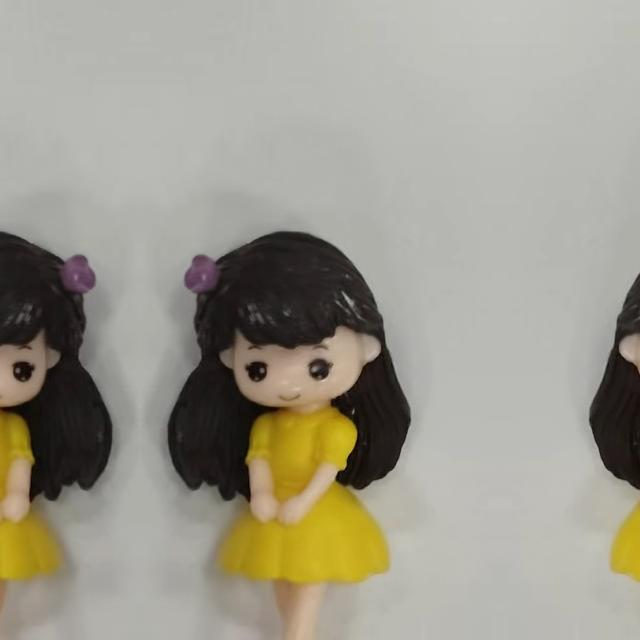woman dress: (226, 385, 381, 640), (0, 385, 53, 640), (618, 385, 640, 640)
woman head: (183, 224, 393, 406), (0, 224, 97, 406), (607, 224, 640, 406)
